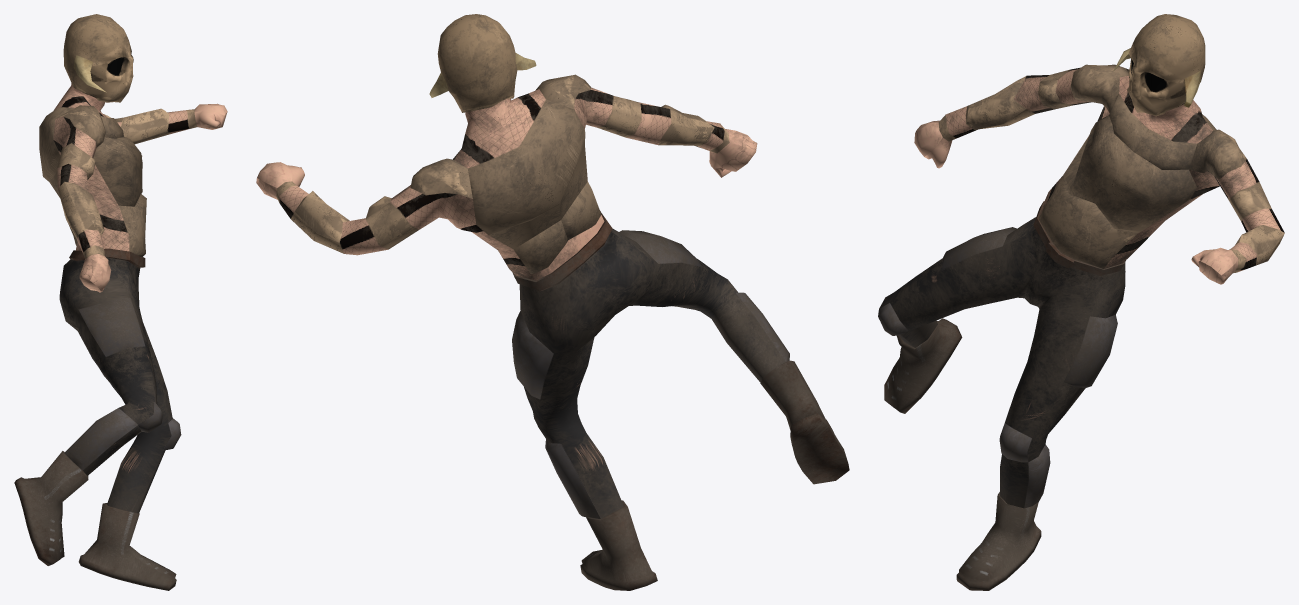
The model's file is Anim_ataque_f1_npc1.0017.obj.
3 renders of one model, left to right at view 1: azimuth 30°, elevation 25°; view 2: azimuth 150°, elevation 25°; view 3: azimuth 270°, elevation 25°, orthographic. The views are drawn at different scales.
Visible parts, largest first — view 1: NPC2; view 2: NPC2; view 3: NPC2.
Part boxes in pixels (<box>): NPC2: <box>14,14,227,590</box>; NPC2: <box>256,14,849,590</box>; NPC2: <box>878,14,1284,590</box>.
Size of the model in its own units: 6.3 by 9.04 by 5.78.
